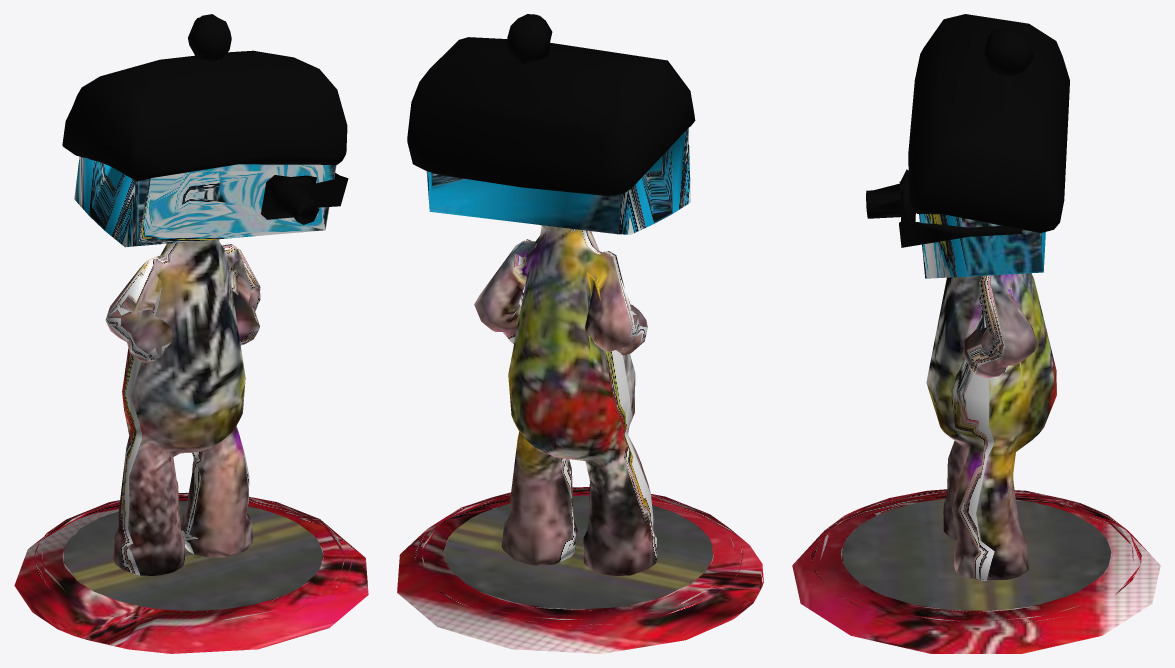
3 views of the same model, side by side, from view 1: azimuth 30°, elevation 25°; view 2: azimuth 150°, elevation 25°; view 3: azimuth 270°, elevation 25° (orthographic). The views are drawn at different scales.
Bounding box in the file's own units: 1.42 × 2.42 × 1.43.
Materials: 5 (4 with a texture image).
